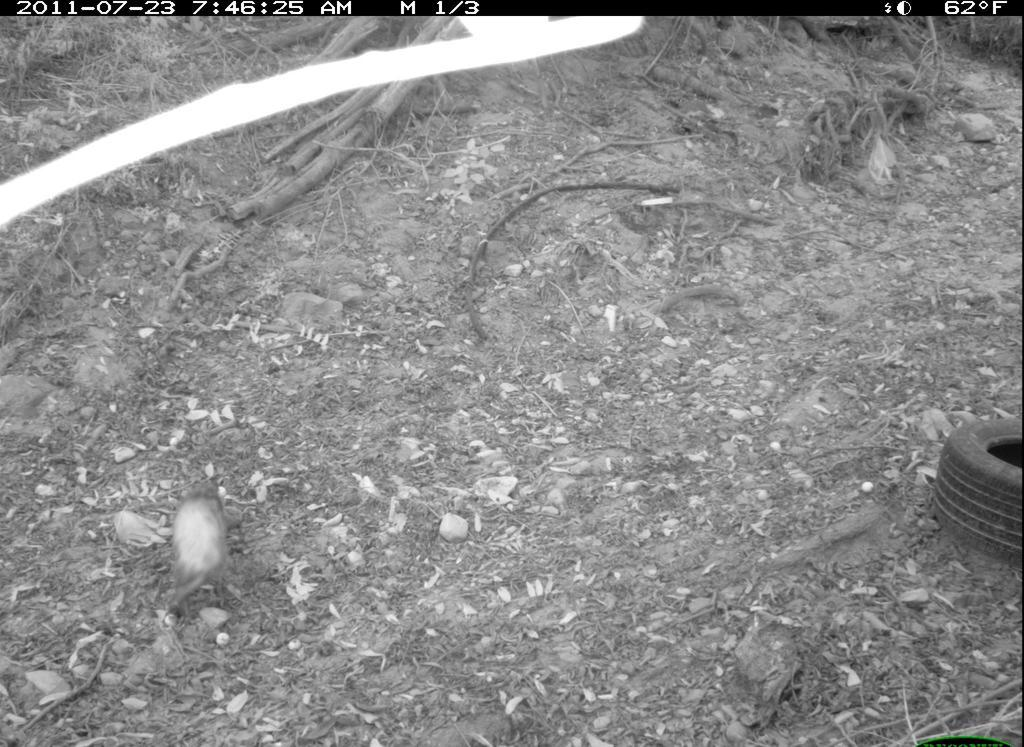opossum: (158, 474, 236, 627)
